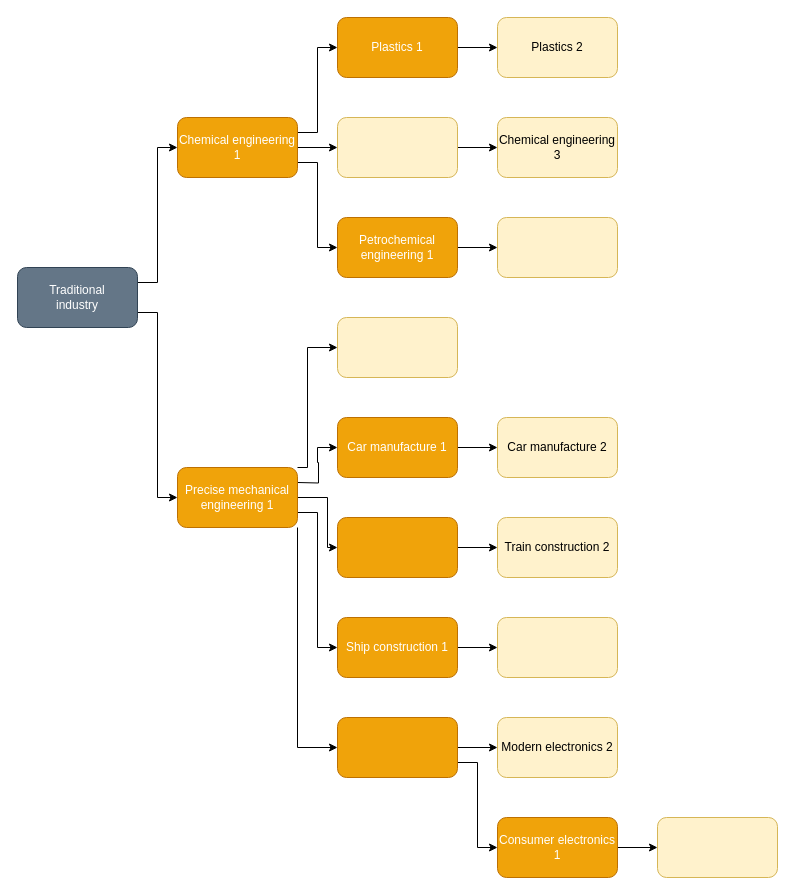
The diagram is 795 pixels wide and 895 high, and some of its shapes have lost their labels. Each missing label, with the box of its shape:
Chemical engineering 2: (336, 116, 458, 178)
Consumer eletronics 2: (656, 816, 778, 878)
Modern electronics 1: (336, 716, 458, 778)
Petrochemical engineering 2: (496, 216, 618, 278)
Precise mechanical engineering 2: (336, 316, 458, 378)
Ship construction 2: (496, 616, 618, 678)
Train construction 1: (336, 516, 458, 578)
